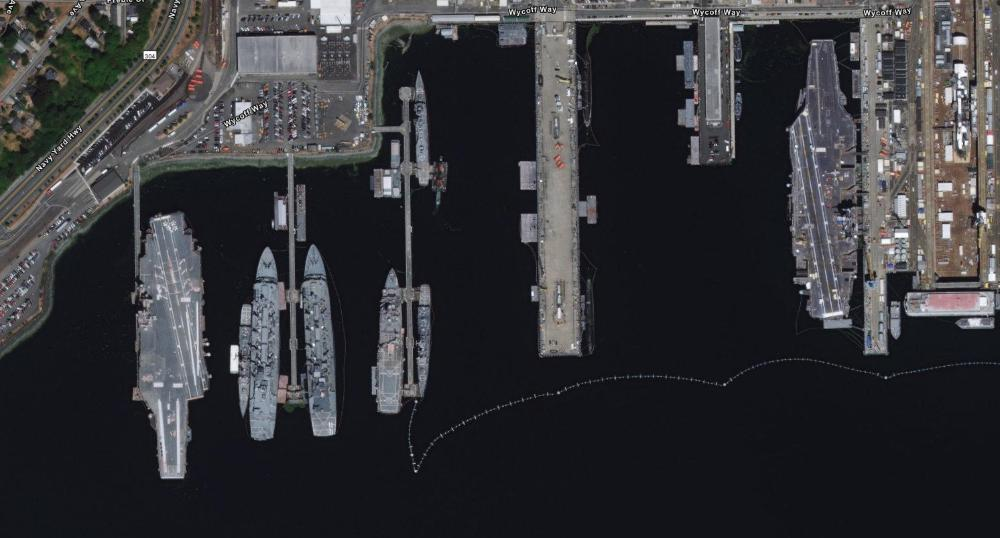carrier: (122, 204, 216, 485), (783, 27, 867, 337)
cruiser: (407, 64, 438, 183), (225, 299, 254, 420), (415, 279, 437, 408)
submarine: (583, 274, 600, 360), (579, 49, 597, 129)
tender: (298, 244, 349, 447), (246, 244, 294, 446)
